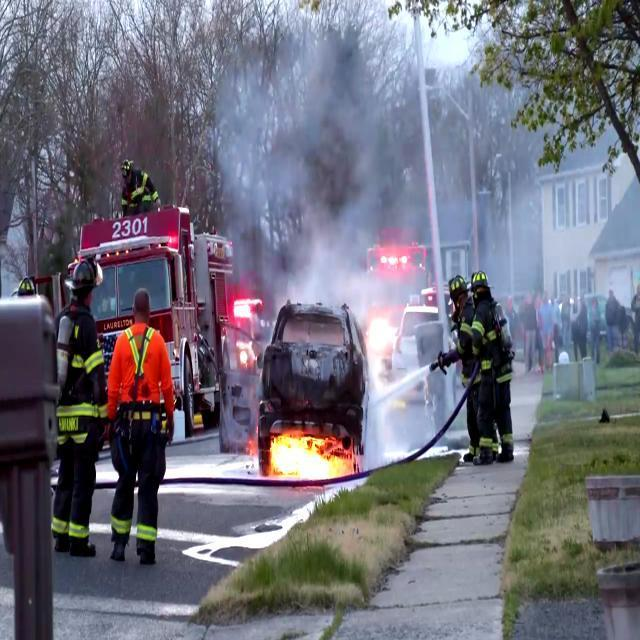Fire: (263, 427, 335, 491)
Smoke: (238, 24, 604, 342)
